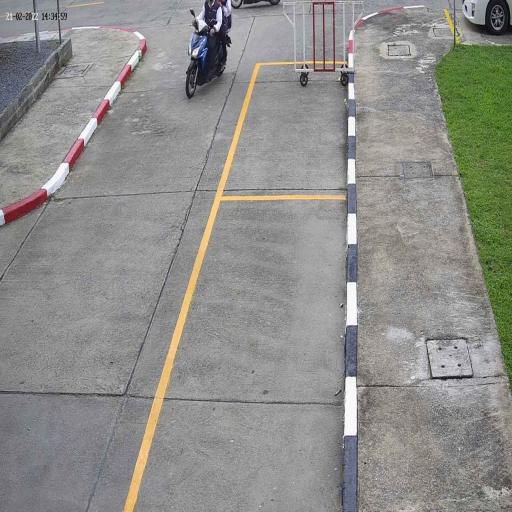motorcycle: (185, 22, 231, 103)
